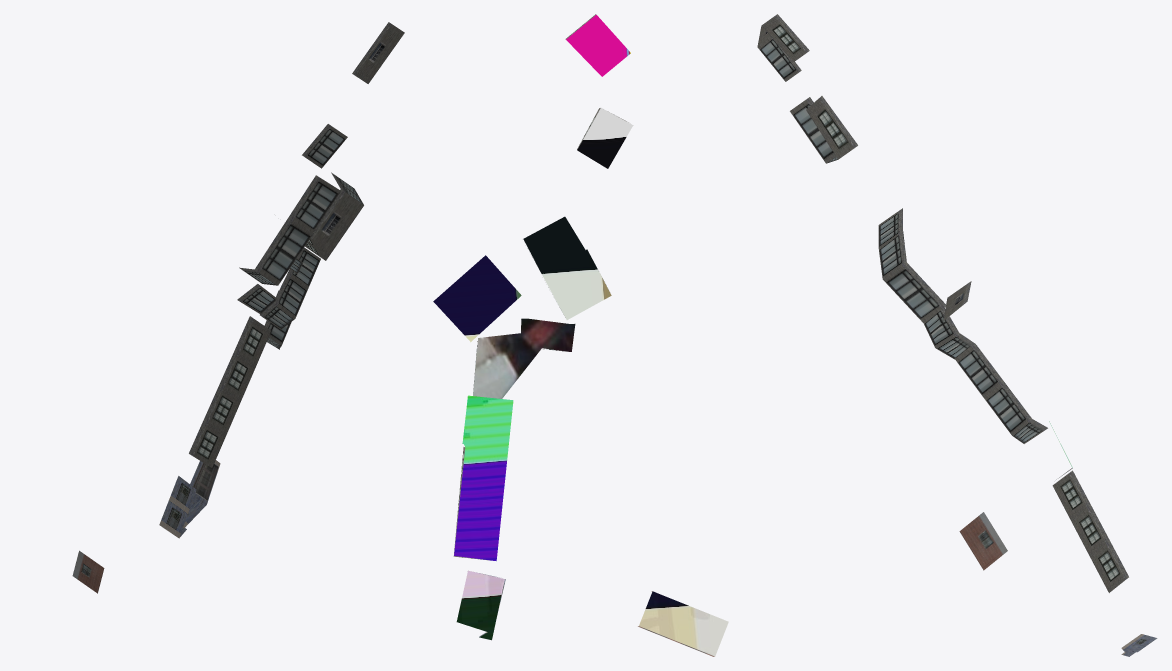
File: tile_LOD8_r4_c2.glb
The picture shows the model from 3 angles, left to right: view 1: azimuth 30°, elevation 25°; view 2: azimuth 150°, elevation 25°; view 3: azimuth 270°, elevation 25°; orthographic projection. The views are drawn at different scales.
Size of the model in its own units: 52.25 by 92.75 by 49.5.
Materials: 17 (17 with a texture image).
